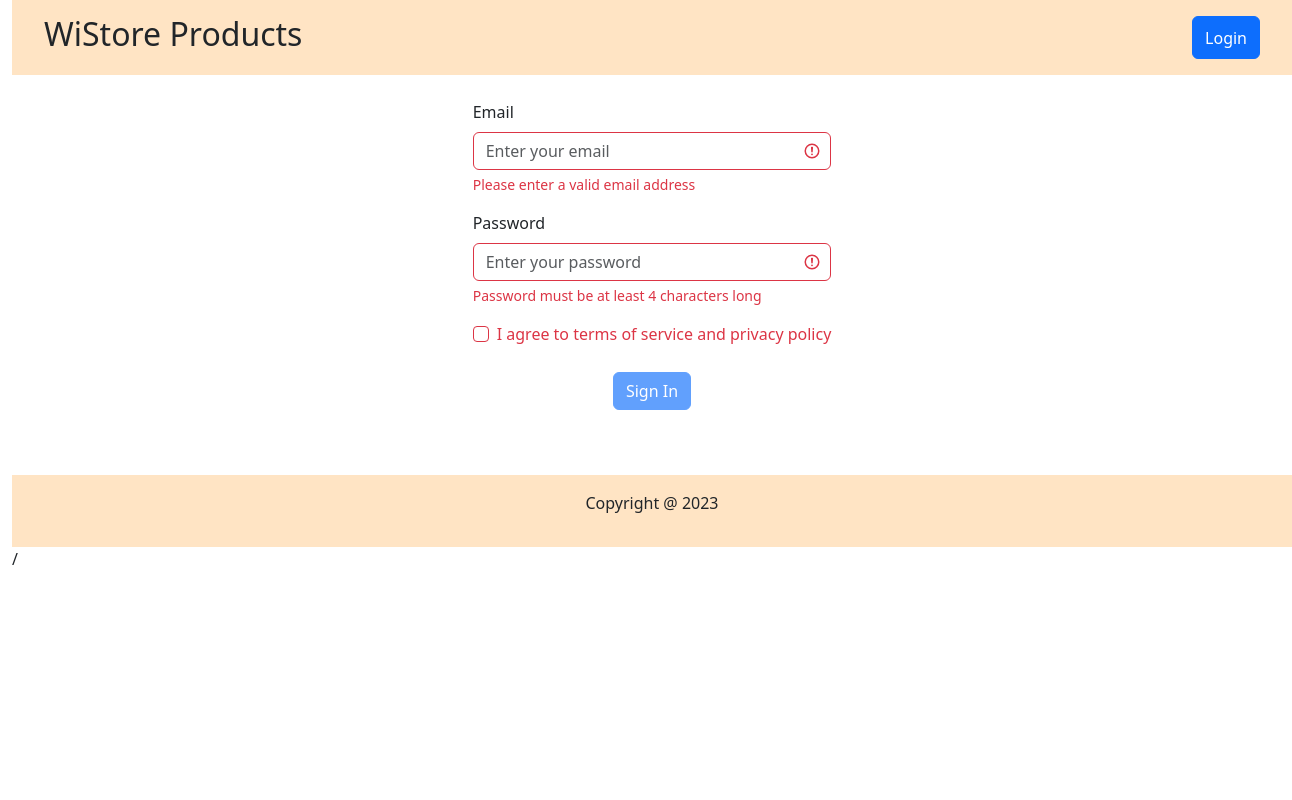
it: Password doğru doldurulunca hata mesajı ortadan kalkıyor
Click the button "Login": [1226, 38] box [1192,16,1260,59]
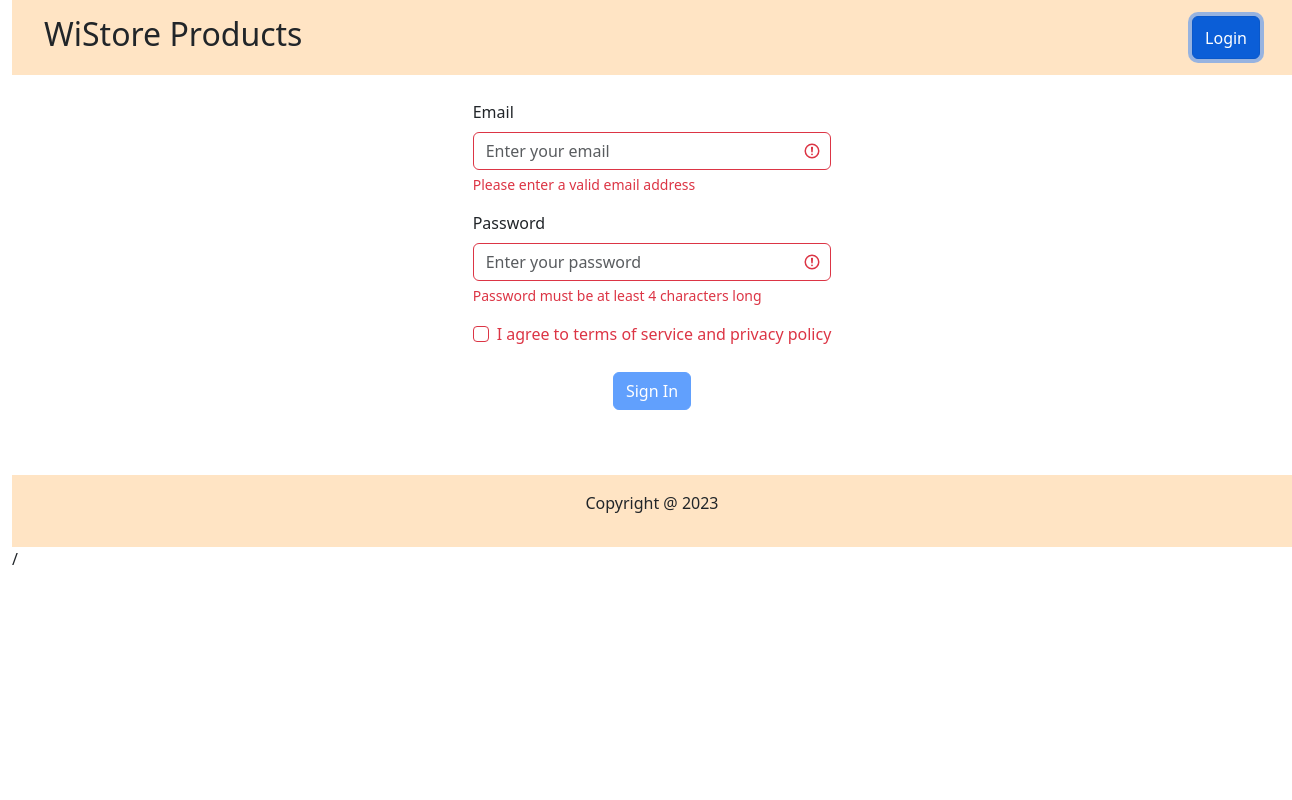
In the password field with placeholder "Enter your password": [652, 262] box [473,243,831,281], type "123"
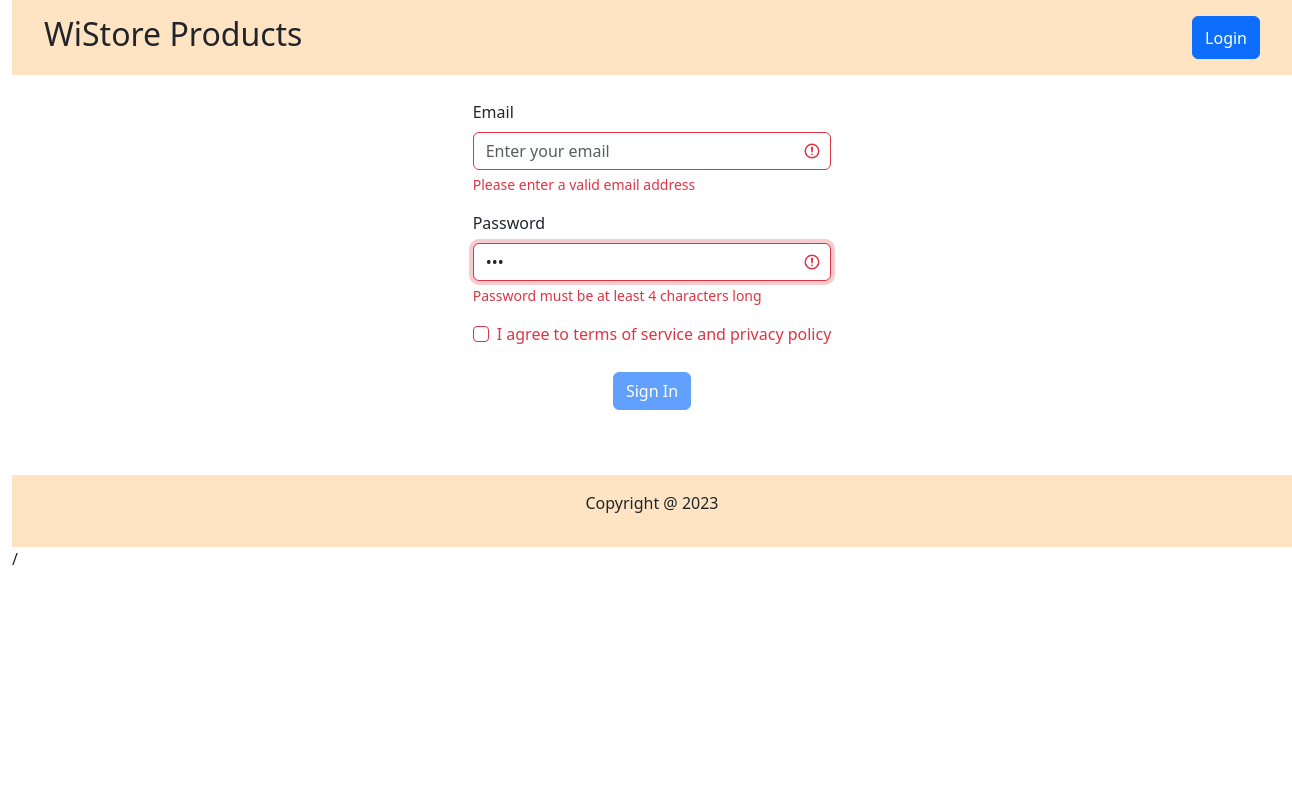
In the password field with placeholder "Enter your password": [652, 262] box [473,243,831,281], type "1234"
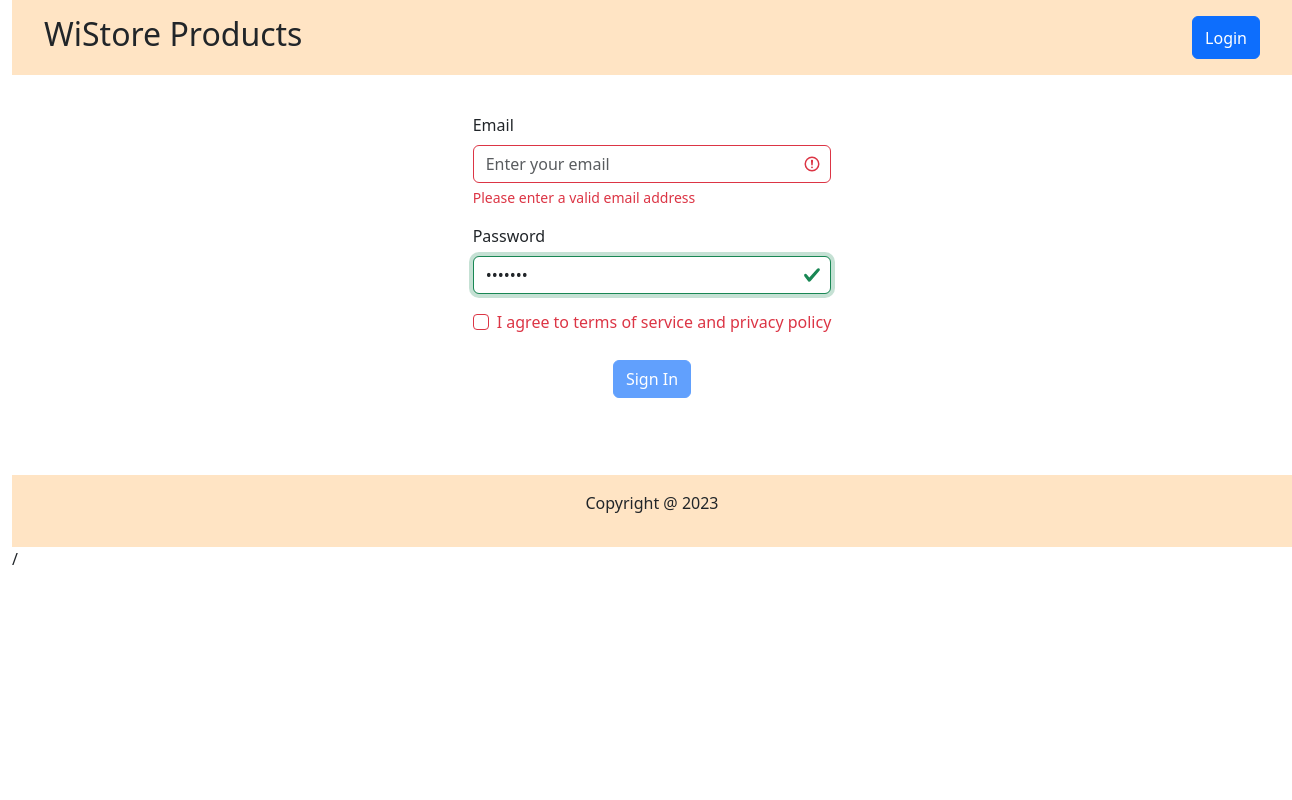
expect the text "Password must be at least 4 characters long" is gone: met
